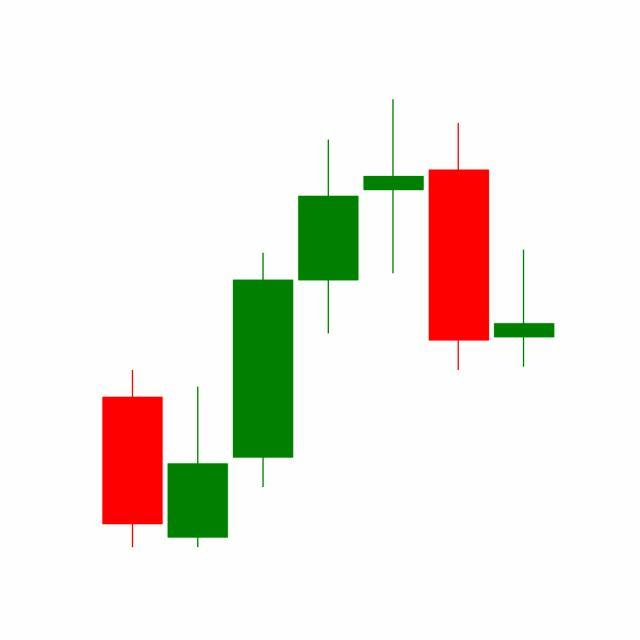Evening Star: (295, 99, 492, 375)
